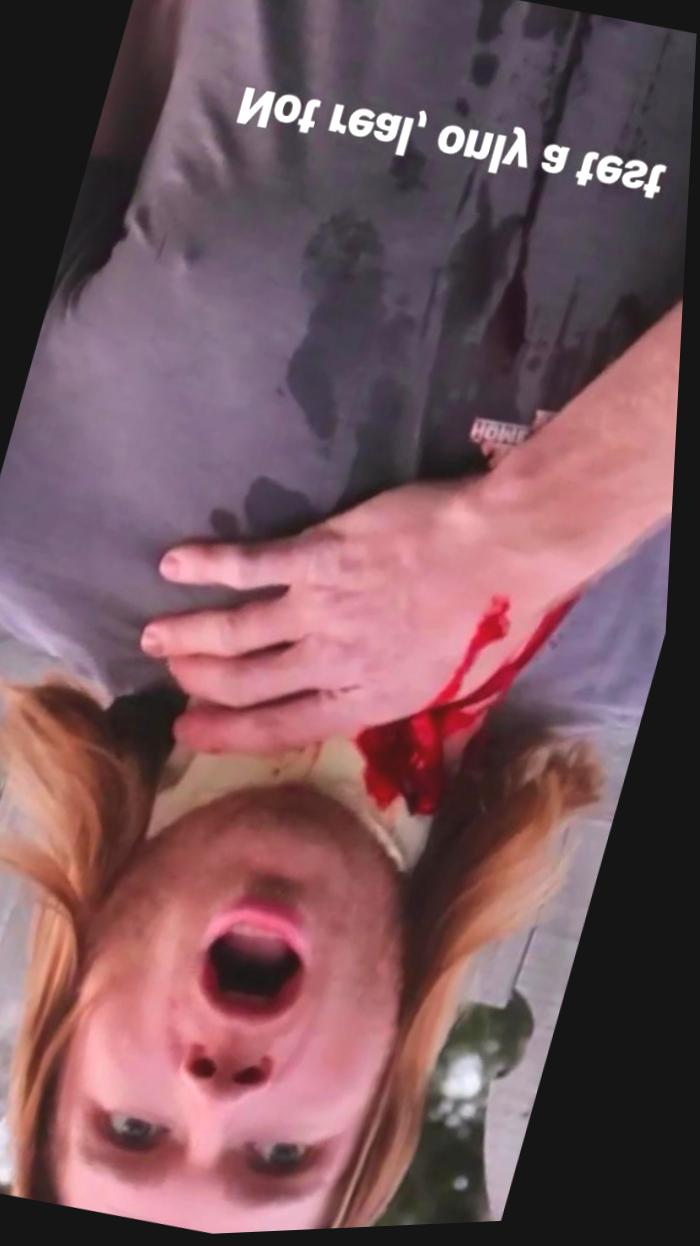Fire: (237, 602, 587, 873)
